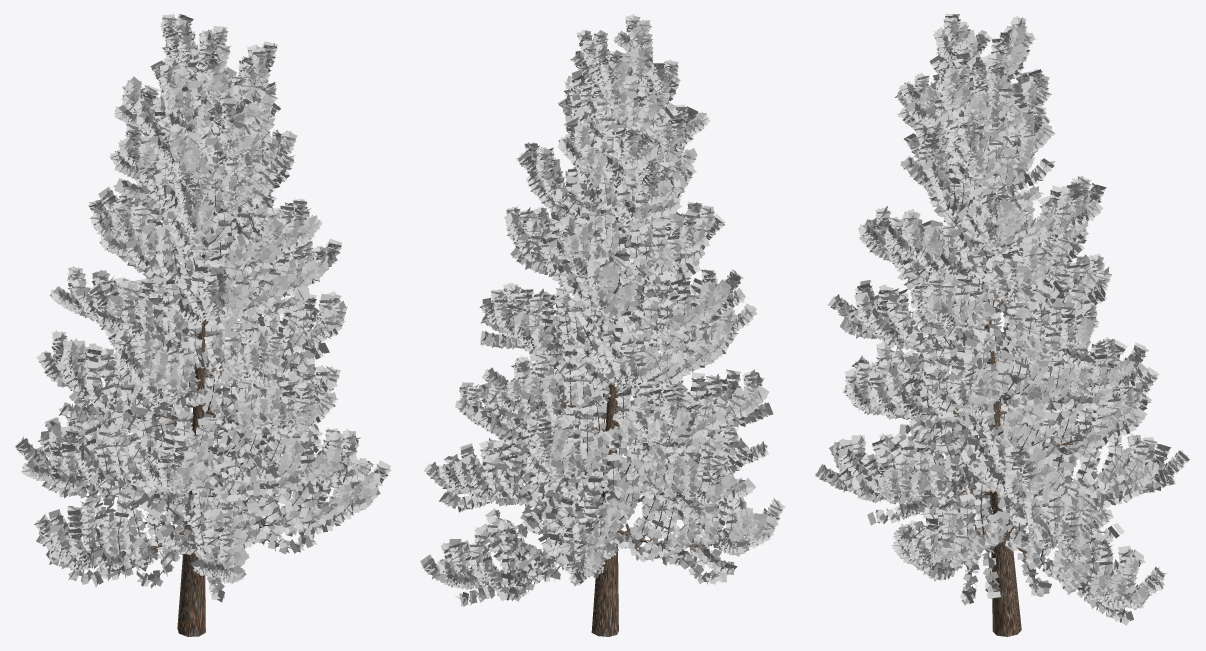
File: Baum 2.fbx
3 views of the same model, side by side, from view 1: azimuth 30°, elevation 25°; view 2: azimuth 150°, elevation 25°; view 3: azimuth 270°, elevation 25° (orthographic). The views are drawn at different scales.
Parts seen in each view (by area): view 1: leaves, tree; view 2: leaves, tree; view 3: leaves, tree.
Part boxes in pixels (bbox=[...]): leaves: bbox=[14, 14, 391, 602]; tree: bbox=[37, 65, 369, 636]; leaves: bbox=[420, 14, 785, 606]; tree: bbox=[459, 93, 766, 636]; leaves: bbox=[815, 14, 1189, 625]; tree: bbox=[832, 81, 1171, 636].
Size of the model in its own units: 9.28 by 17.39 by 9.69.
